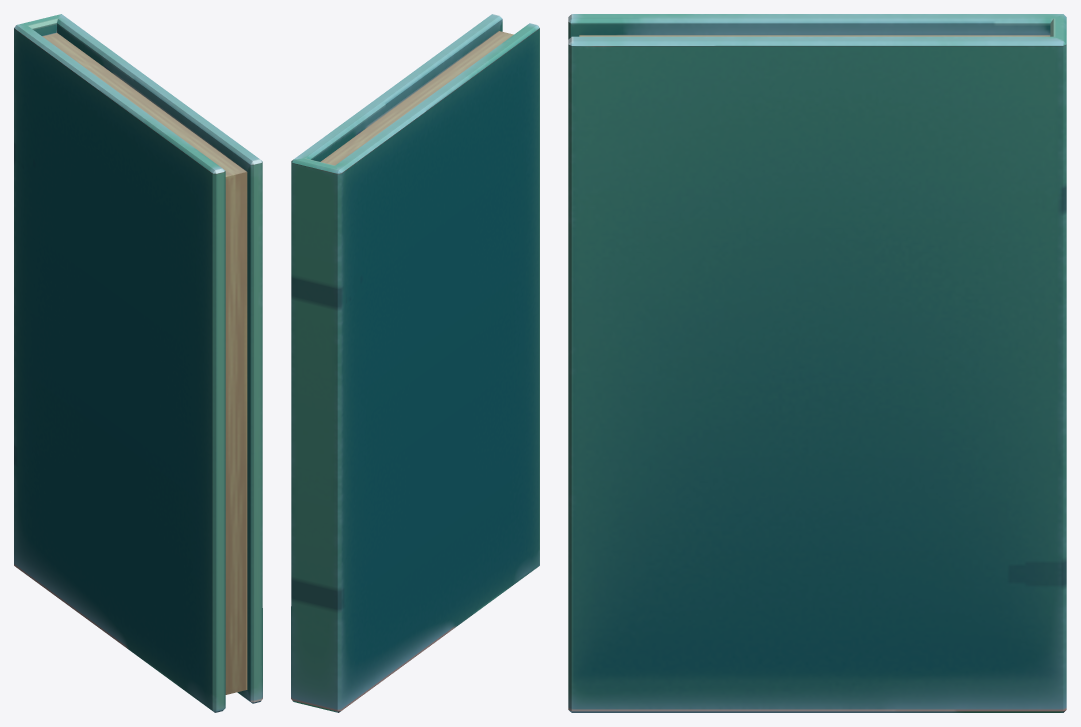
The model's file is Libro_6.fbx.
3 views of the same model, side by side, from view 1: azimuth 30°, elevation 25°; view 2: azimuth 150°, elevation 25°; view 3: azimuth 270°, elevation 25° (orthographic). The views are drawn at different scales.
Visible parts, largest first — view 1: Libros 6; view 2: Libros 6; view 3: Libros 6.
Part boxes in pixels (bbox=[...]): Libros 6: bbox=[14, 14, 262, 712]; Libros 6: bbox=[291, 14, 539, 712]; Libros 6: bbox=[568, 14, 1066, 712].
Size of the model in its own units: 9.08 by 93.81 by 63.07.
